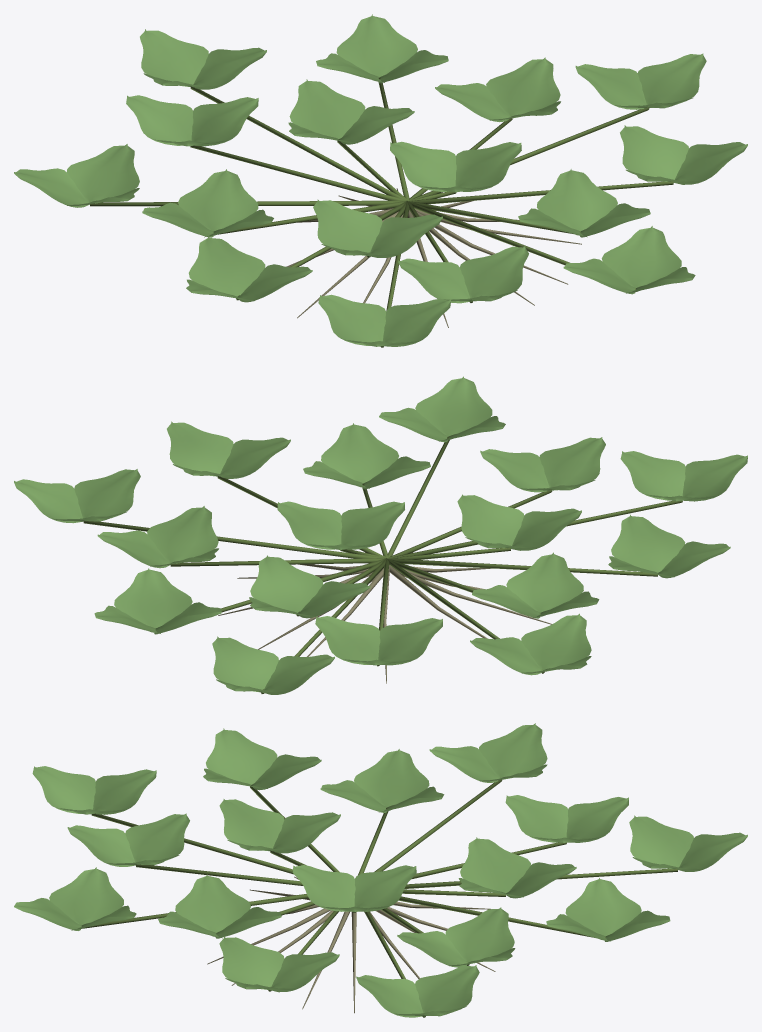
The model's file is montecarlo-desktop.glb.
3 views of the same model, one above another, from view 1: azimuth 30°, elevation 25°; view 2: azimuth 150°, elevation 25°; view 3: azimuth 270°, elevation 25° (orthographic). The views are drawn at different scales.
Parts seen in each view (by area): view 1: round-carpet-leaf, creeping-stolon, anchoring-root; view 2: round-carpet-leaf, creeping-stolon, anchoring-root; view 3: round-carpet-leaf, creeping-stolon, anchoring-root.
Part boxes in pixels (box(x1,y1,x2,y2)): round-carpet-leaf: box(14, 14, 747, 346); creeping-stolon: box(90, 77, 673, 347); anchoring-root: box(286, 188, 581, 327); round-carpet-leaf: box(14, 376, 747, 694); creeping-stolon: box(83, 437, 682, 693); anchoring-root: box(218, 552, 551, 683); round-carpet-leaf: box(14, 723, 747, 1017); creeping-stolon: box(83, 779, 677, 1017); anchoring-root: box(207, 876, 495, 1013).
Bounding box in the file's own units: 0.5346 × 0.0718 × 0.5687.
